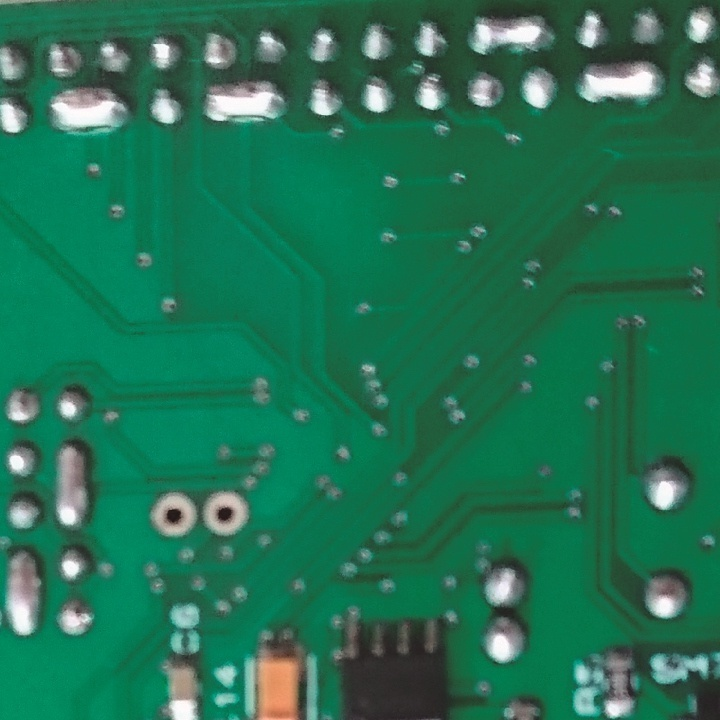F: (198, 486, 250, 538), (147, 489, 196, 540), (196, 27, 243, 74), (53, 596, 99, 640), (462, 67, 506, 112), (1, 387, 45, 429), (45, 38, 86, 81), (683, 58, 720, 99)
P: (574, 60, 668, 110), (198, 79, 287, 127), (43, 86, 128, 134), (468, 14, 556, 58), (4, 547, 44, 643), (54, 443, 90, 526)
